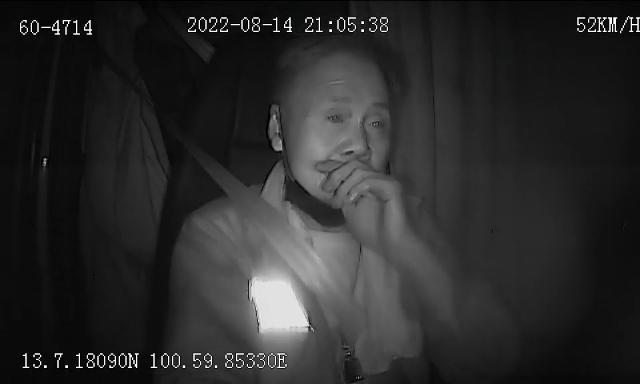SafeDriving: (361, 105, 394, 137), (321, 102, 352, 128)
Seatbelt: (172, 130, 364, 350)
